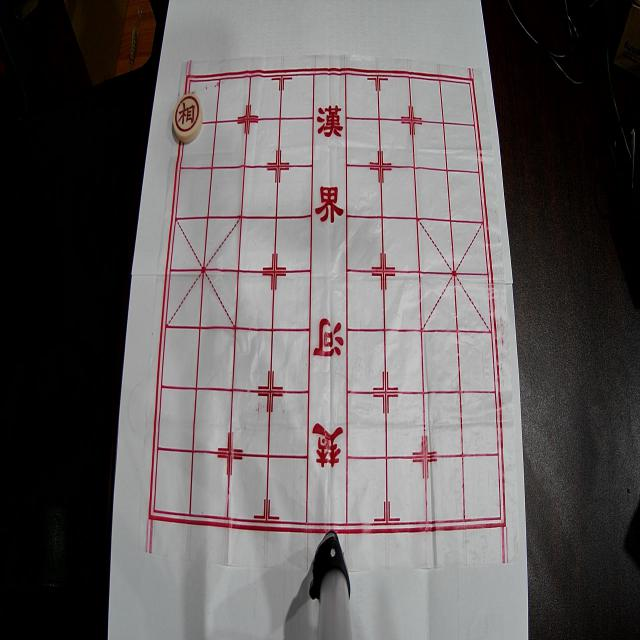red-elephant: (173, 93, 203, 143)
